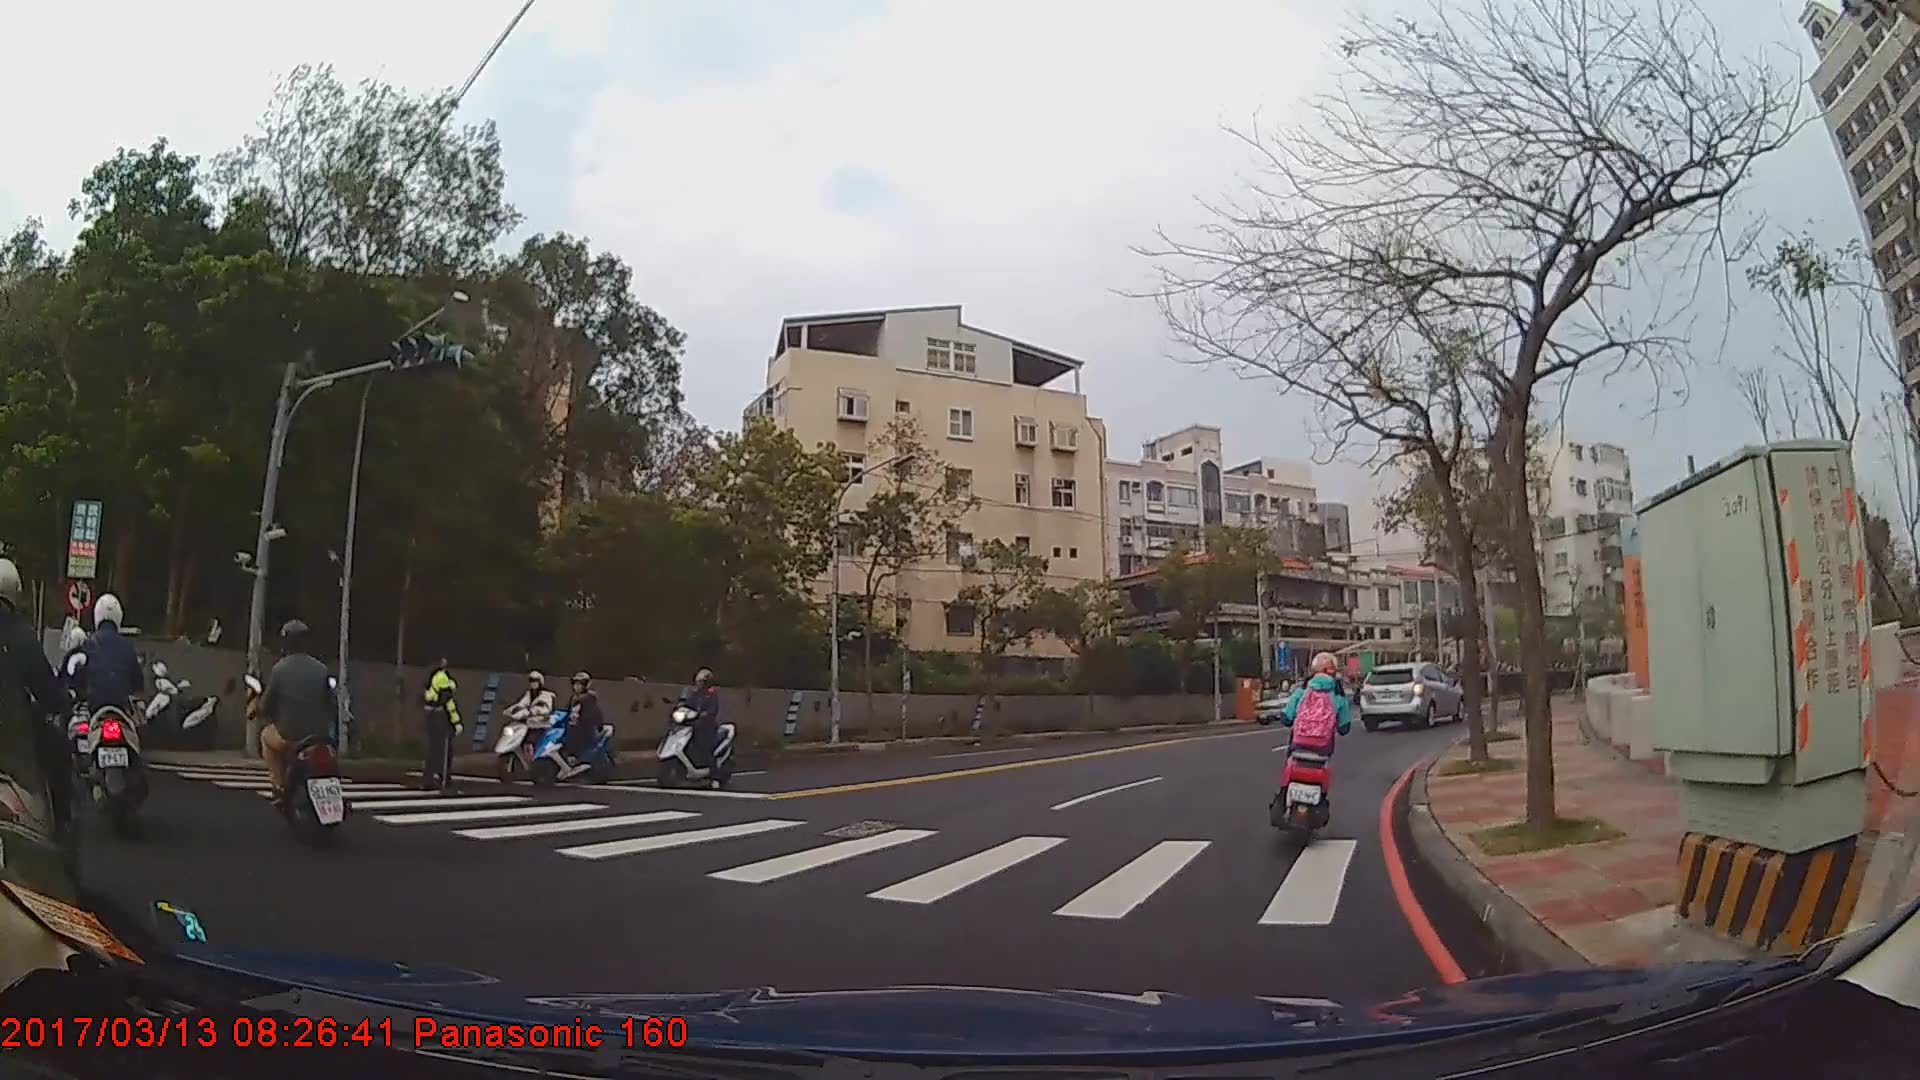pedestrian: (421, 647, 466, 794)
rider: (1, 559, 82, 919), (245, 617, 345, 846), (69, 592, 149, 836), (1275, 650, 1354, 836), (656, 671, 738, 790), (534, 670, 610, 785), (495, 671, 570, 781)
vehicle: (1356, 659, 1464, 728)
